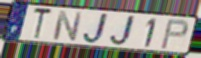1: (145, 18, 157, 48)
J: (81, 12, 110, 44), (108, 14, 137, 46)
N: (51, 10, 84, 43)
P: (159, 19, 190, 51)
T: (32, 6, 54, 41)
